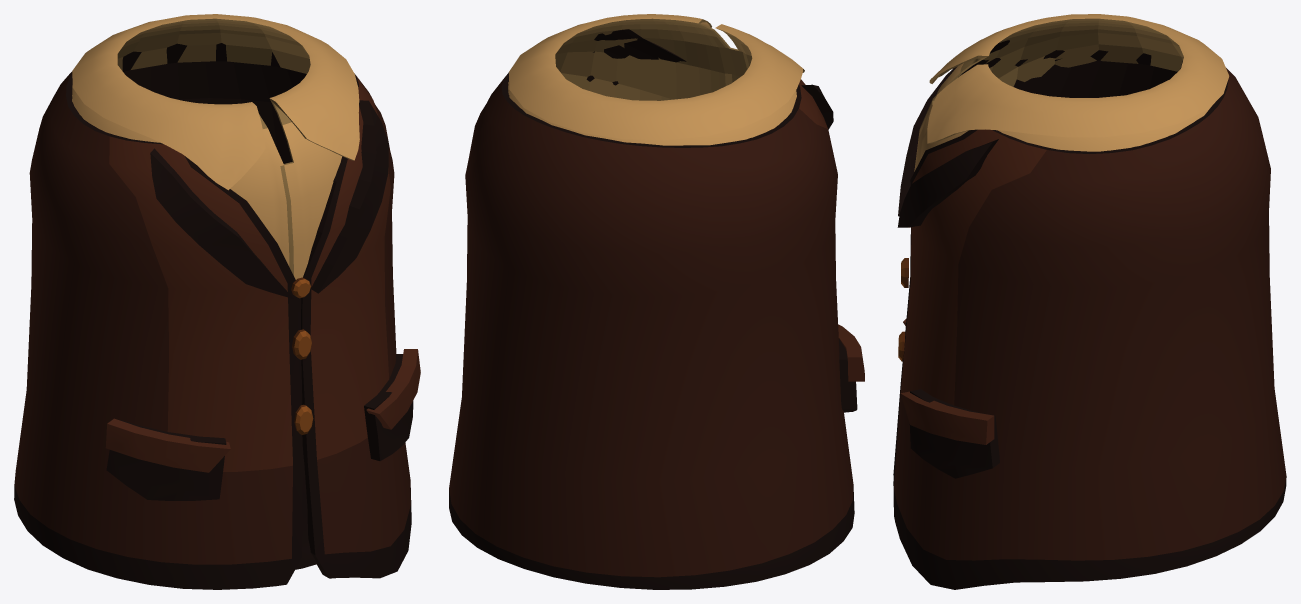
Rendered from TavernVest.fbx.
The picture shows the model from 3 angles, left to right: view 1: azimuth 30°, elevation 25°; view 2: azimuth 150°, elevation 25°; view 3: azimuth 270°, elevation 25°; orthographic projection. The views are drawn at different scales.
Visible parts, largest first — view 1: VestShell, TavernVest_InnerShirt; view 2: VestShell, TavernVest_InnerShirt; view 3: VestShell, TavernVest_InnerShirt.
Part boxes in pixels (<box>): VestShell: <box>14,43,420,589</box>; TavernVest_InnerShirt: <box>72,14,359,279</box>; VestShell: <box>449,29,864,589</box>; TavernVest_InnerShirt: <box>508,14,804,145</box>; VestShell: <box>893,40,1286,589</box>; TavernVest_InnerShirt: <box>914,14,1229,171</box>.
Size of the model in its own units: 0.3034 by 0.4046 by 0.3029.
Materials: 2 (2 with a texture image).
